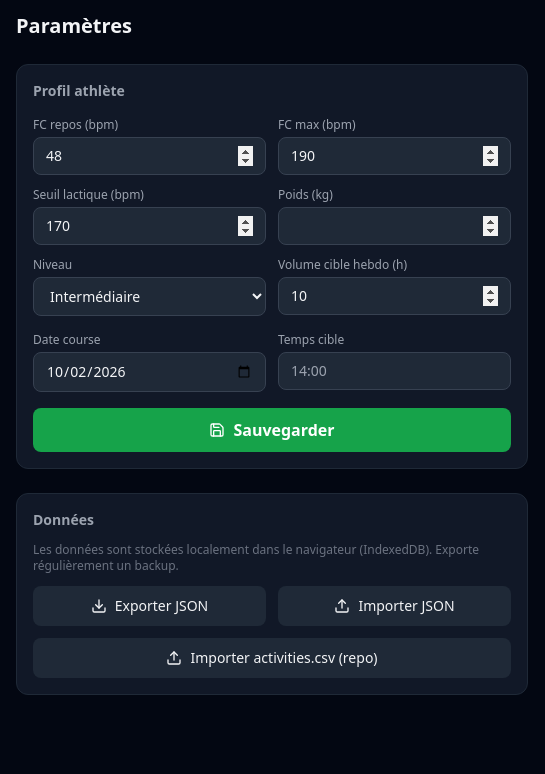
Settings › prevents invalid profile save
This screenshot has width=545, height=774.
Replace the text in the number field showing "48" below "FC repos (bpm)" with "10" at (150, 156), box [33,137,266,175]
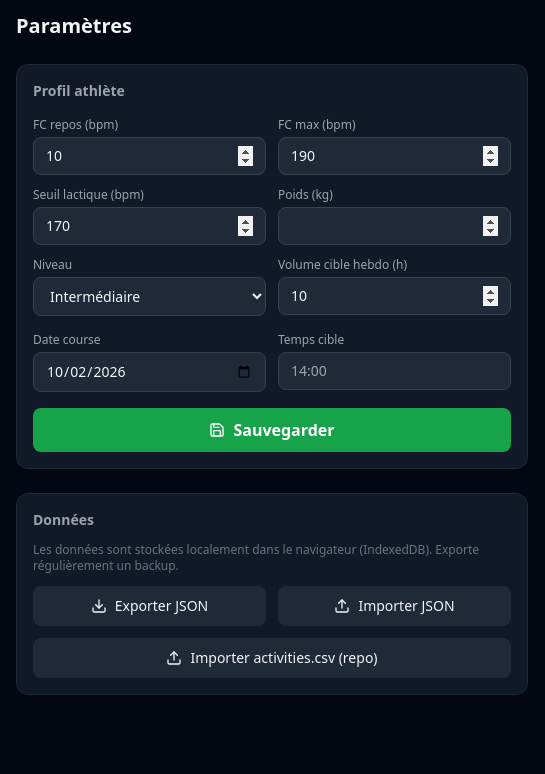
Click the button "Sauvegarder" at (272, 430), box [33,408,511,452]
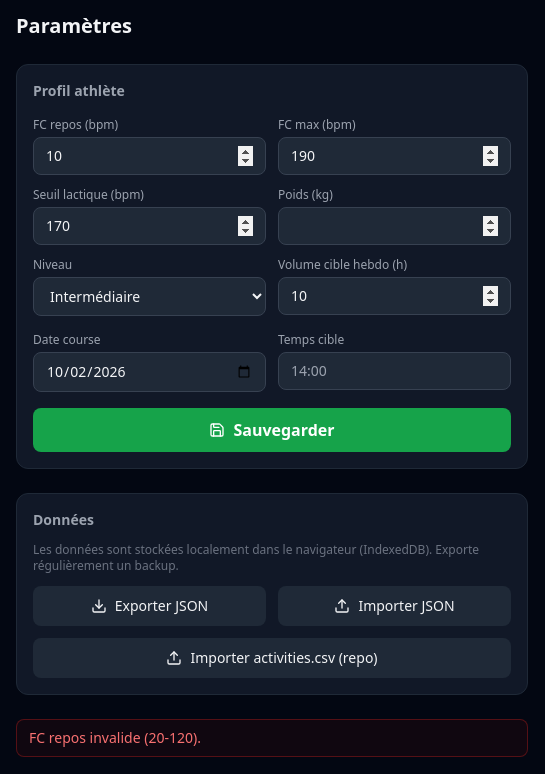
Expected: the text "FC repos invalide (20-120)." is shown, [16,719,528,757]
